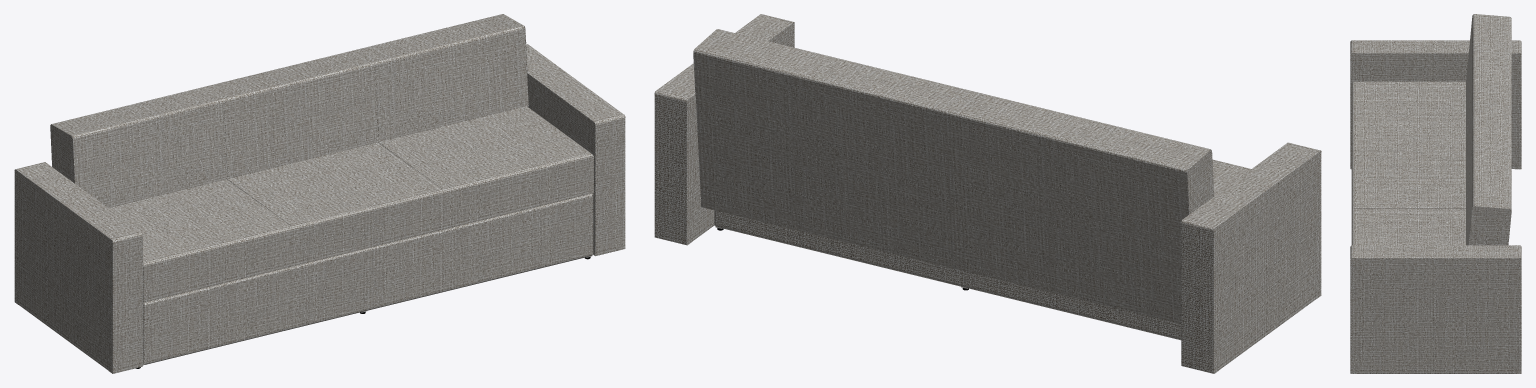
3 views of the same model, side by side, from view 1: azimuth 30°, elevation 25°; view 2: azimuth 150°, elevation 25°; view 3: azimuth 270°, elevation 25° (orthographic). The views are drawn at different scales.
Parts seen in each view (by area): view 1: 2 (×2), 4, 6; view 2: 4, 2 (×2), 6; view 3: 2 (×2), 4, 5.
Part boxes in pixels (box(x1,y1,x2,y2)): 2 (×2): box(14, 44, 625, 373); 4: box(51, 14, 593, 365); 6: box(50, 124, 75, 183); 4: box(693, 29, 1210, 340); 2 (×2): box(654, 14, 1321, 373); 6: box(1187, 150, 1214, 214); 2 (×2): box(1350, 40, 1521, 373); 4: box(1466, 14, 1511, 245); 5: box(1468, 206, 1511, 245).
Size of the model in its own units: 2.21 by 0.7605 by 0.735.
Materials: 3 (1 with a texture image).
